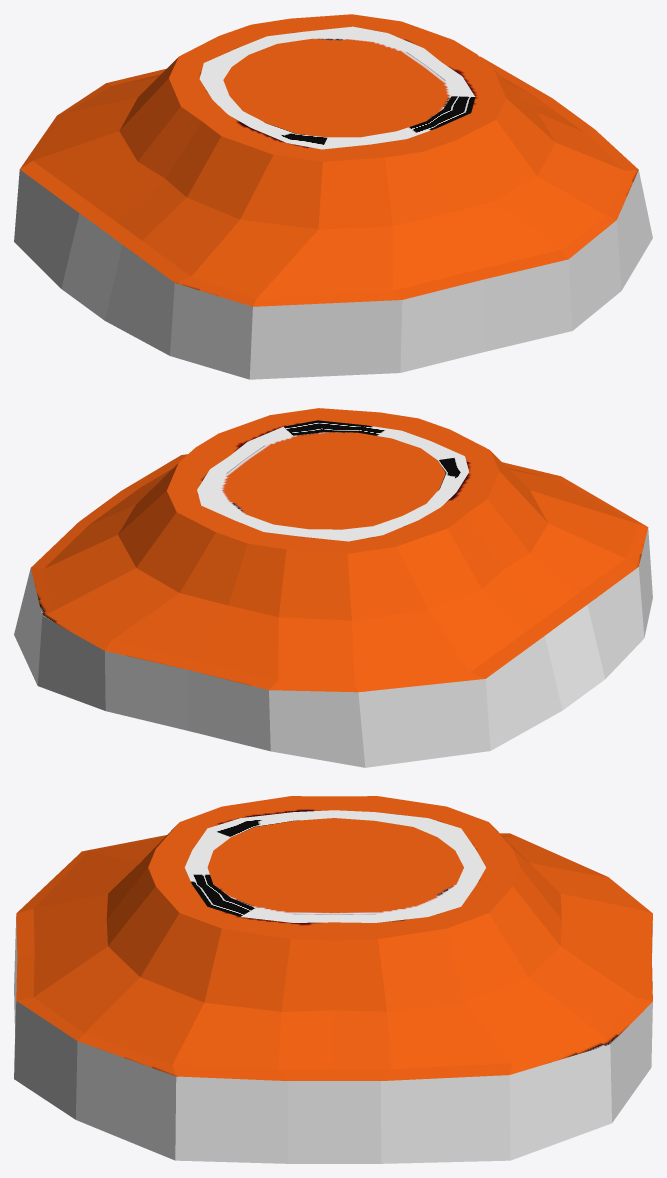
File: hopo_five.fbx
3 views of the same model, one above another, from view 1: azimuth 30°, elevation 25°; view 2: azimuth 150°, elevation 25°; view 3: azimuth 270°, elevation 25° (orthographic). The views are drawn at different scales.
Visible parts, largest first — view 1: pasted__polySurface1; view 2: pasted__polySurface1; view 3: pasted__polySurface1.
Part boxes in pixels (<box>): pasted__polySurface1: <box>14,14,652,379</box>; pasted__polySurface1: <box>14,408,652,767</box>; pasted__polySurface1: <box>14,796,652,1163</box>.
Size of the model in its own units: 0.9786 by 0.2885 by 1.
Materials: 1 (1 with a texture image).
